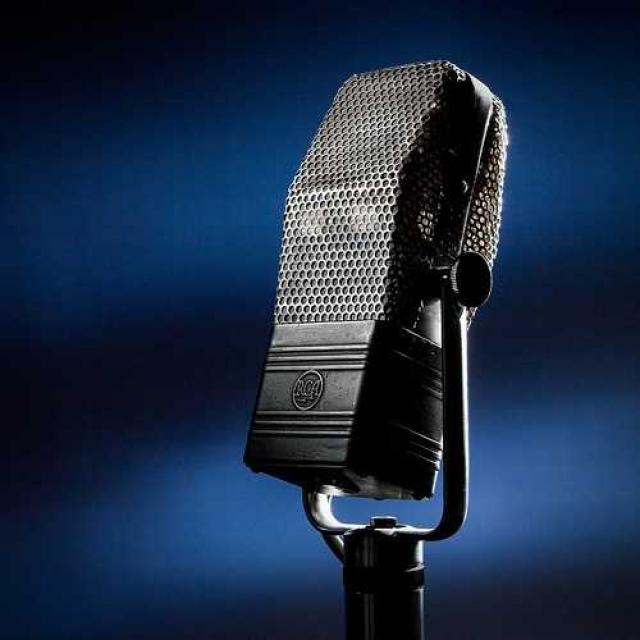microphone: (244, 66, 495, 640)
